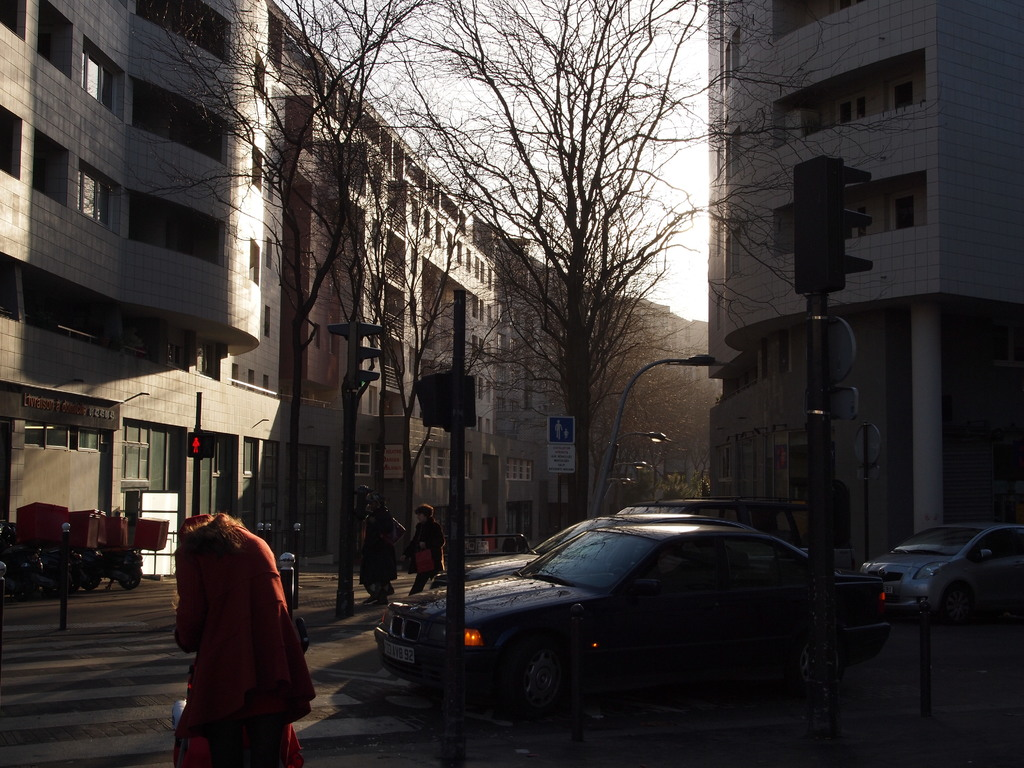Tree: (143, 0, 519, 595), (437, 14, 700, 521)
